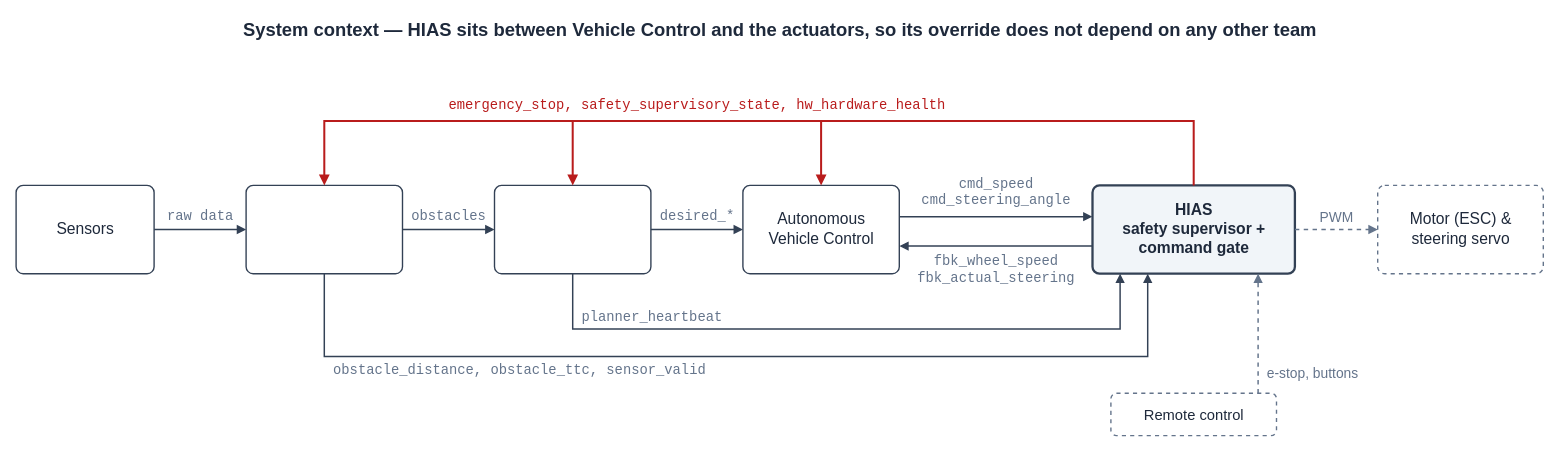
This 1560x453 diagram has some shape labels left out. The box of each missing label's shape, as (x1, y1, x2, y2) in pixels:
Motion Planning: (493, 184, 651, 274)
Perception & Sensor Fusion: (245, 184, 403, 274)
